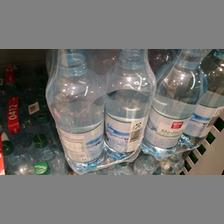Wasser: (44, 49, 104, 171), (141, 48, 207, 158), (100, 50, 155, 158)
